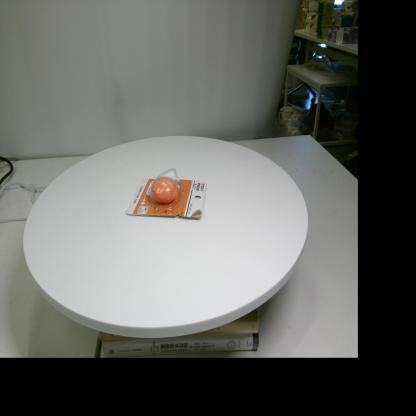Stationery: (126, 168, 207, 218)
